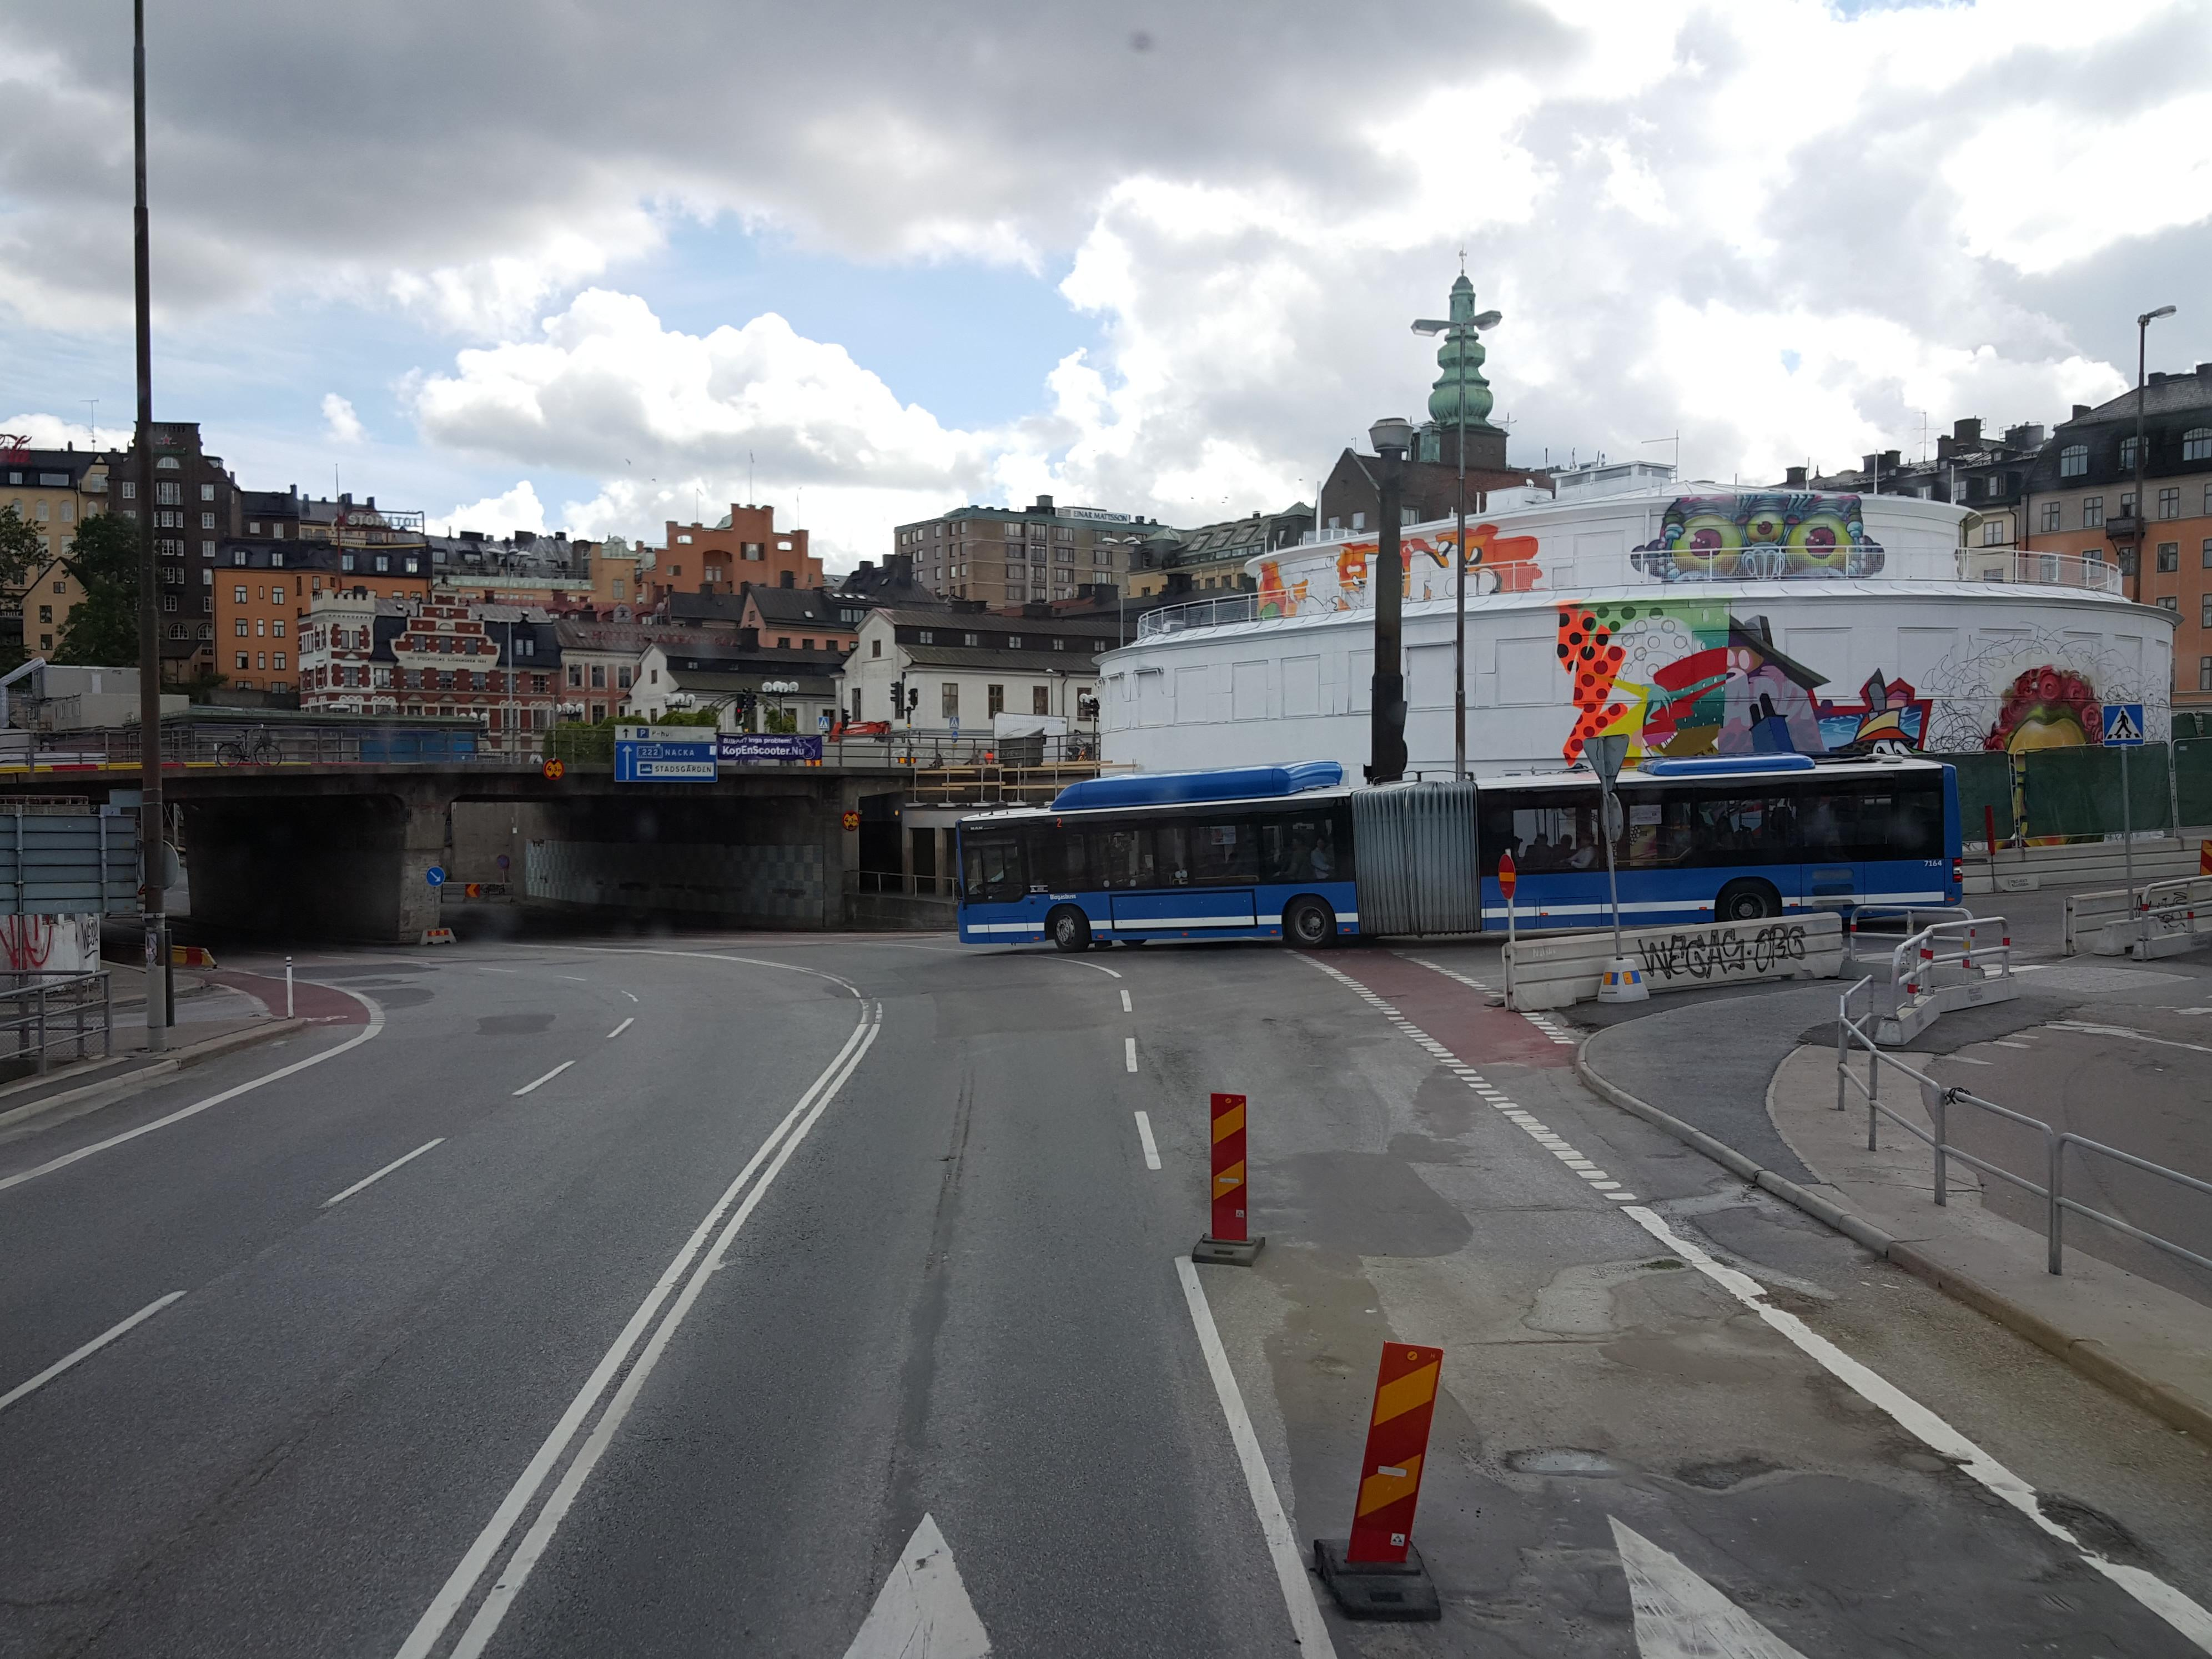vinyl banner: (709, 711, 836, 781)
